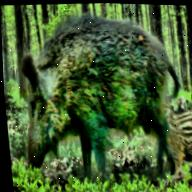boar: (8, 6, 186, 185)
